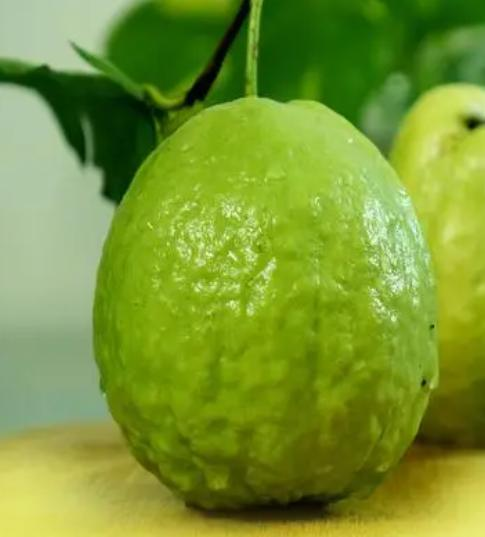guava_A: (92, 96, 440, 514)
